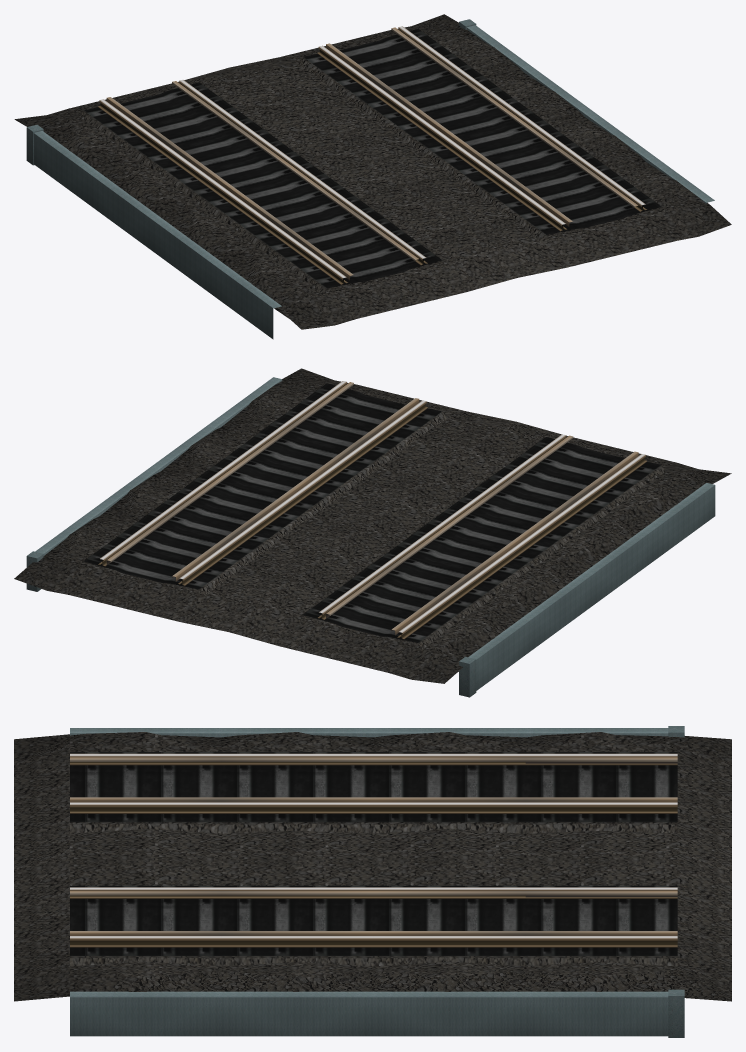
The model's file is KH_RAIL00_25.glb.
The picture shows the model from 3 angles, top to bottom: view 1: azimuth 30°, elevation 25°; view 2: azimuth 150°, elevation 25°; view 3: azimuth 270°, elevation 25°; orthographic projection. The views are drawn at different scales.
Visible parts, largest first — view 1: RAIL, RG_R, RG_L; view 2: RAIL, RG_R, RG_L, last; view 3: RAIL, RG_R, RG_L, last.
Part boxes in pixels (left/top/right/bottom): RAIL: left=14, top=14, right=731, bottom=339; RG_R: left=106, top=43, right=572, bottom=280; RG_L: left=172, top=27, right=638, bottom=261; RAIL: left=14, top=368, right=731, bottom=690; RG_R: left=172, top=398, right=638, bottom=635; RG_L: left=106, top=382, right=573, bottom=618; last: left=26, top=551, right=476, bottom=697; RAIL: left=14, top=728, right=731, bottom=1036; RG_R: left=70, top=757, right=677, bottom=897; RG_L: left=70, top=797, right=677, bottom=935; last: left=668, top=726, right=684, bottom=1037.
Size of the model in its own units: 26.27 by 2.62 by 29.53.
8 materials, 7 textured.
